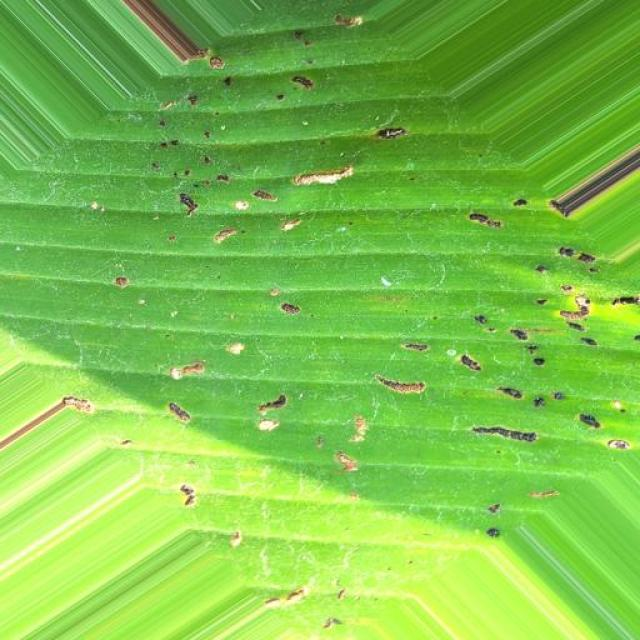Black_rot: (115, 12, 640, 618)
